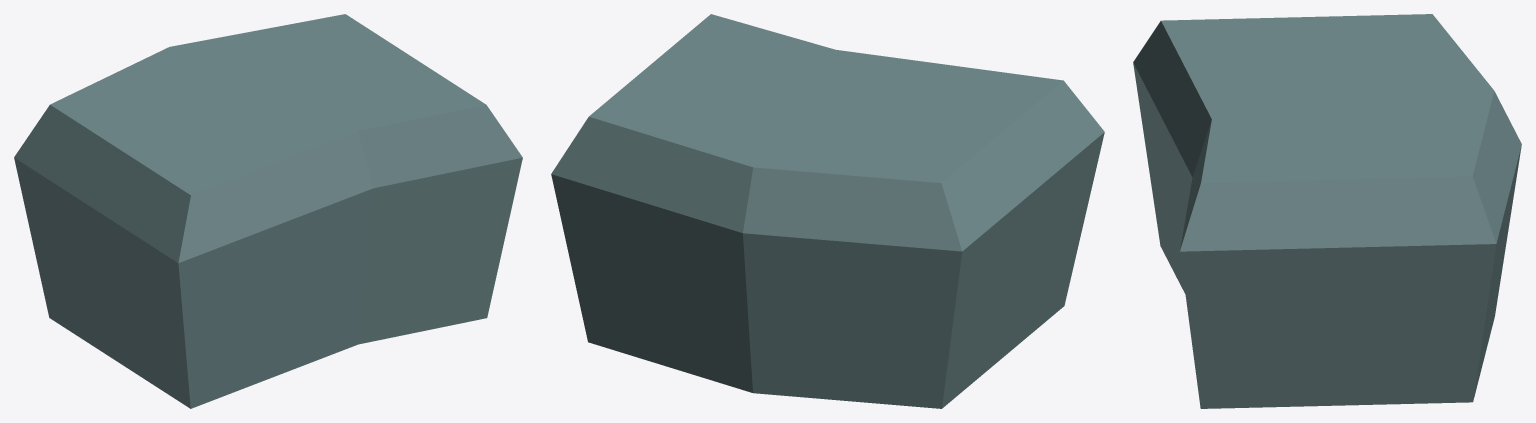
File: brigesRock_Type6_04_mesh_001.fbx
The picture shows the model from 3 angles, left to right: view 1: azimuth 30°, elevation 25°; view 2: azimuth 150°, elevation 25°; view 3: azimuth 270°, elevation 25°; orthographic projection. The views are drawn at different scales.
Visible parts, largest first — view 1: Rock Type6 04 mesh.001; view 2: Rock Type6 04 mesh.001; view 3: Rock Type6 04 mesh.001.
Boxes of the visible parts, bbox=[...] form: Rock Type6 04 mesh.001: bbox=[14, 14, 522, 408]; Rock Type6 04 mesh.001: bbox=[551, 14, 1104, 408]; Rock Type6 04 mesh.001: bbox=[1133, 14, 1521, 408].
Size of the model in its own units: 75.11 by 40.13 by 62.64.
